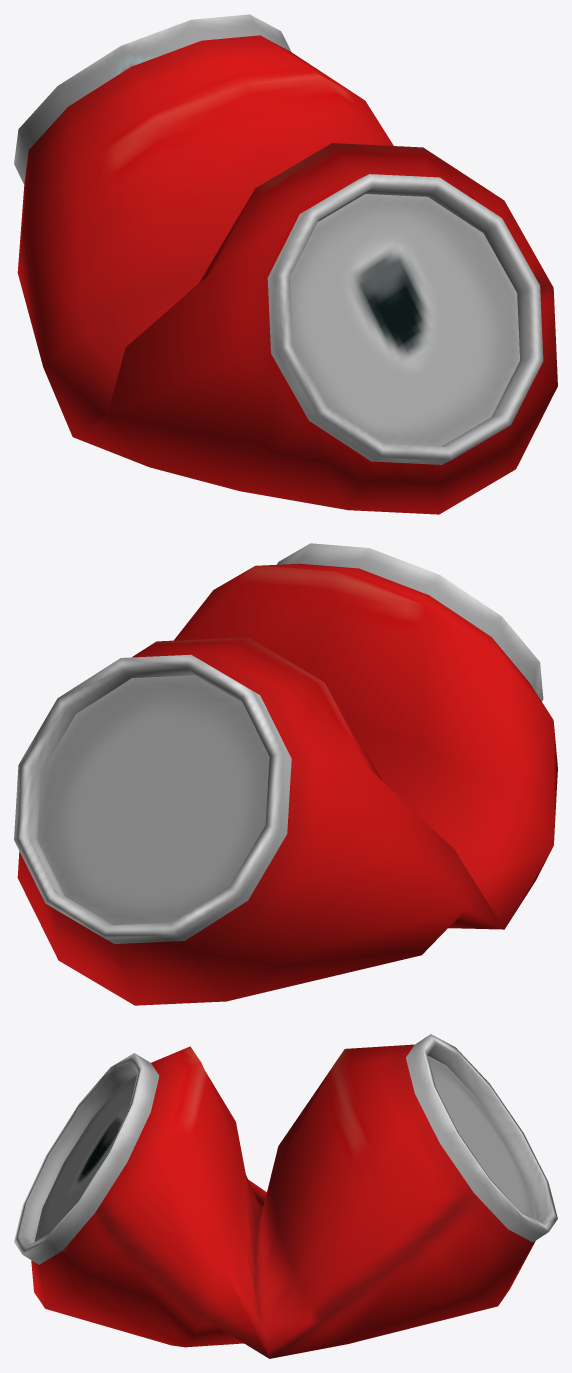
Rendered from canMesh.fbx.
3 renders of one model, top to bottom at view 1: azimuth 30°, elevation 25°; view 2: azimuth 150°, elevation 25°; view 3: azimuth 270°, elevation 25°, orthographic. The views are drawn at different scales.
Parts seen in each view (by area): view 1: canMesh; view 2: canMesh; view 3: canMesh.
Boxes of the visible parts, x1,y1,x2,y2 form: canMesh: (14, 14, 557, 514); canMesh: (14, 543, 557, 1005); canMesh: (14, 1034, 557, 1358).
Bounding box in the file's own units: 81.68 × 60.51 × 110.
Materials: 1 (1 with a texture image).
